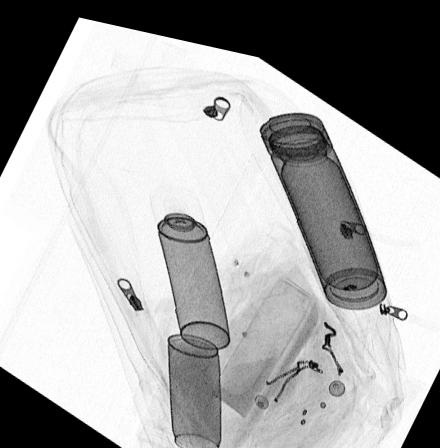Sprayer: (146, 174, 230, 342)
